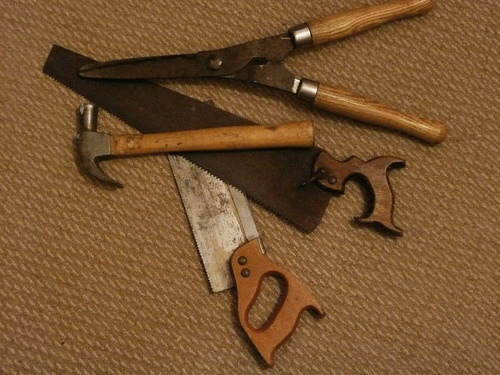hammer: (73, 102, 317, 194)
